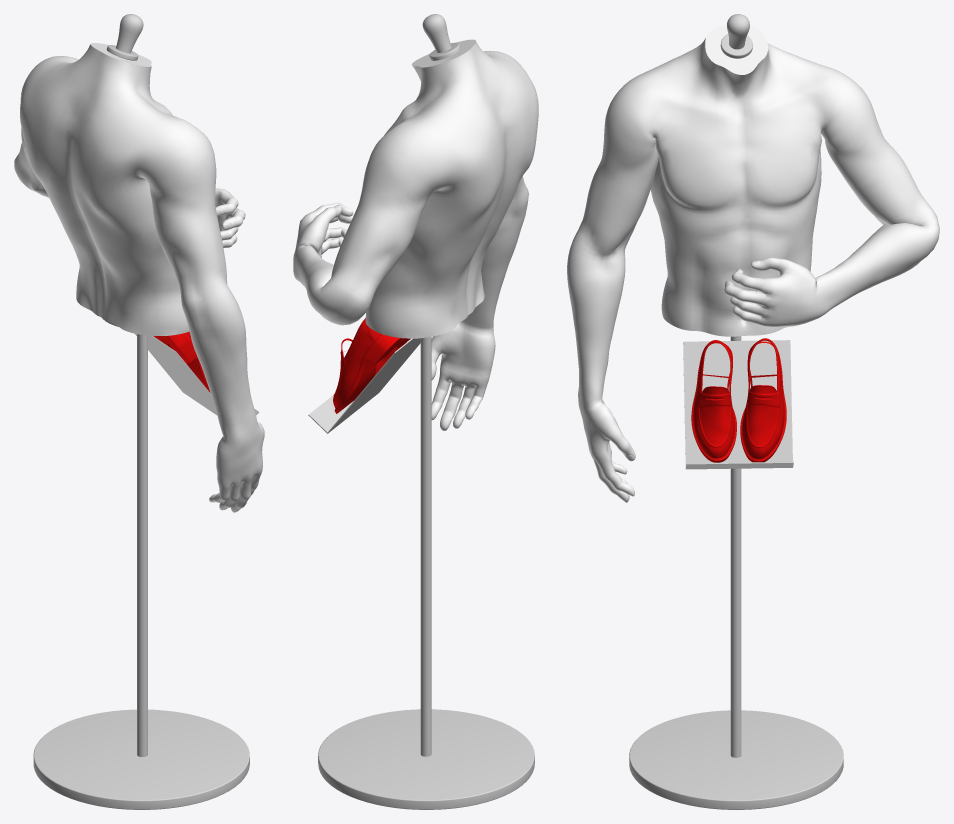
Rendered from torso_manequim.glb.
The picture shows the model from 3 angles, left to right: view 1: azimuth 30°, elevation 25°; view 2: azimuth 150°, elevation 25°; view 3: azimuth 270°, elevation 25°; orthographic projection.
Parts seen in each view (by area): view 1: Torso, Torso_Base, Shoes_Support, Torso_Top, Shoes; view 2: Torso, Torso_Base, Shoes, Shoes_Support, Torso_Top; view 3: Torso, Torso_Base, Shoes_Support, Shoes (×2), Torso_Top.
Part boxes in pixels (bbox=[...]): Torso: bbox=[14, 43, 264, 512]; Torso_Base: bbox=[33, 318, 249, 809]; Shoes_Support: bbox=[135, 333, 259, 415]; Torso_Top: bbox=[106, 14, 143, 60]; Shoes: bbox=[164, 331, 210, 392]; Torso: bbox=[293, 39, 538, 430]; Torso_Base: bbox=[318, 337, 534, 809]; Shoes: bbox=[333, 318, 401, 413]; Shoes_Support: bbox=[308, 338, 420, 433]; Torso_Top: bbox=[422, 14, 460, 60]; Torso: bbox=[567, 24, 939, 502]; Torso_Base: bbox=[629, 336, 843, 809]; Shoes_Support: bbox=[683, 340, 793, 469]; Shoes (×2): bbox=[691, 338, 786, 462]; Torso_Top: bbox=[720, 14, 752, 58].
Size of the model in its own units: 0.4317 by 1.53 by 0.6948.
